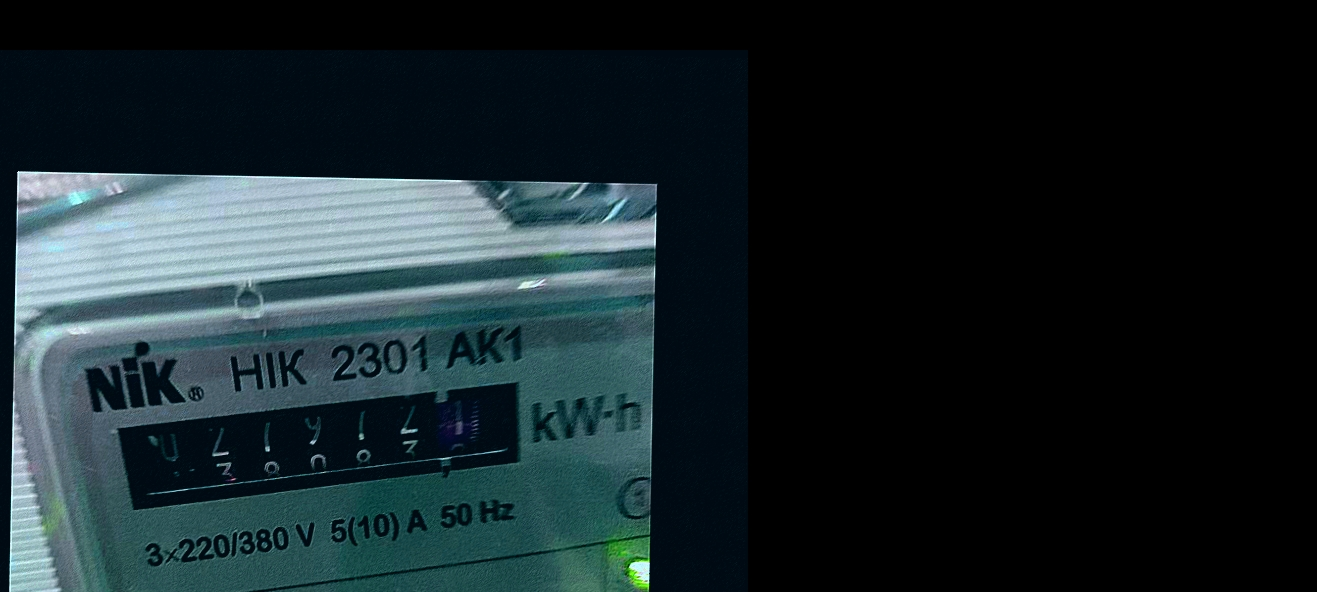0: (153, 427, 182, 464)
1: (447, 396, 470, 440)
2: (202, 419, 232, 459), (393, 399, 421, 437)
7: (346, 403, 372, 445), (252, 417, 276, 455)
9: (299, 411, 326, 447)
screen: (98, 365, 553, 528)
